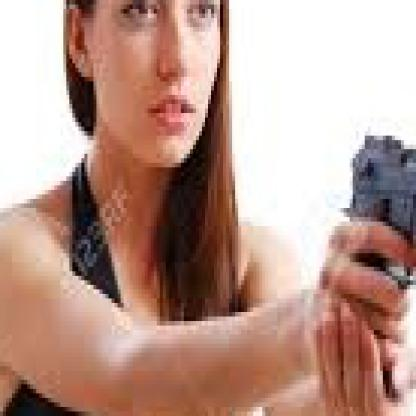gun: (326, 117, 413, 380)
